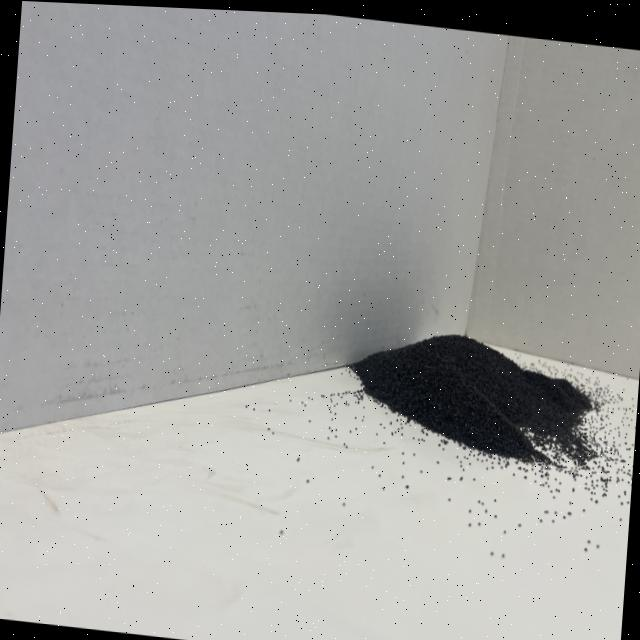Poppy Seeds: (348, 290, 612, 488)
